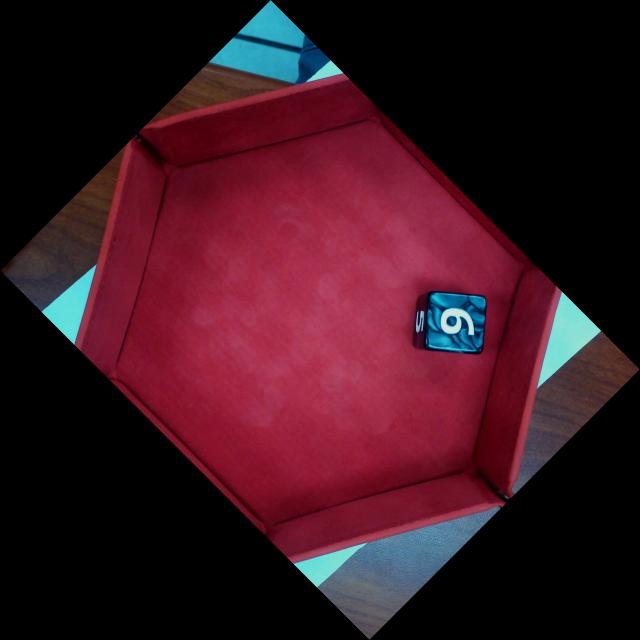dice: (422, 290, 490, 356)
